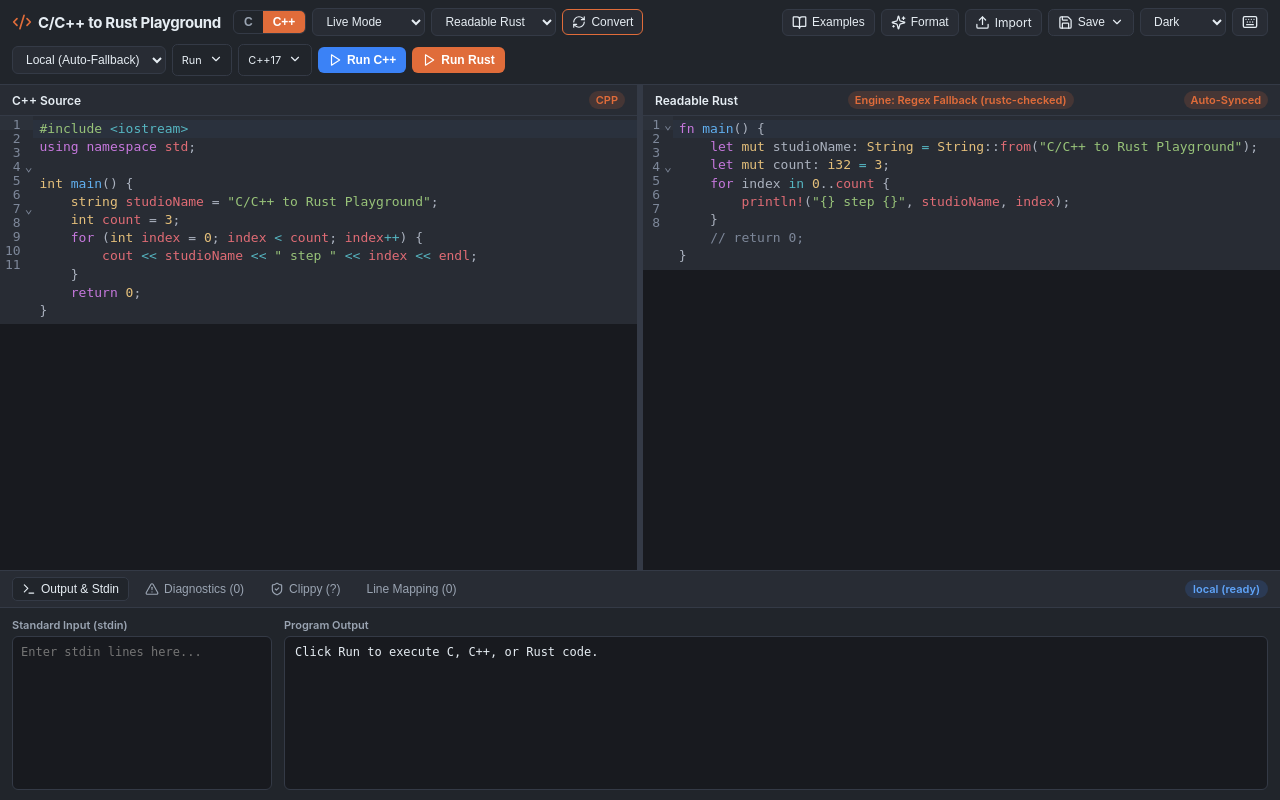
Test: App component › allows switching between Live Mode and Manual Mode and clicking Convert
This screenshot has width=1280, height=800.
Select "Manual Mode" in the dropdown with test id "conversion-mode-select" at (369, 22), box [312,8,425,36]
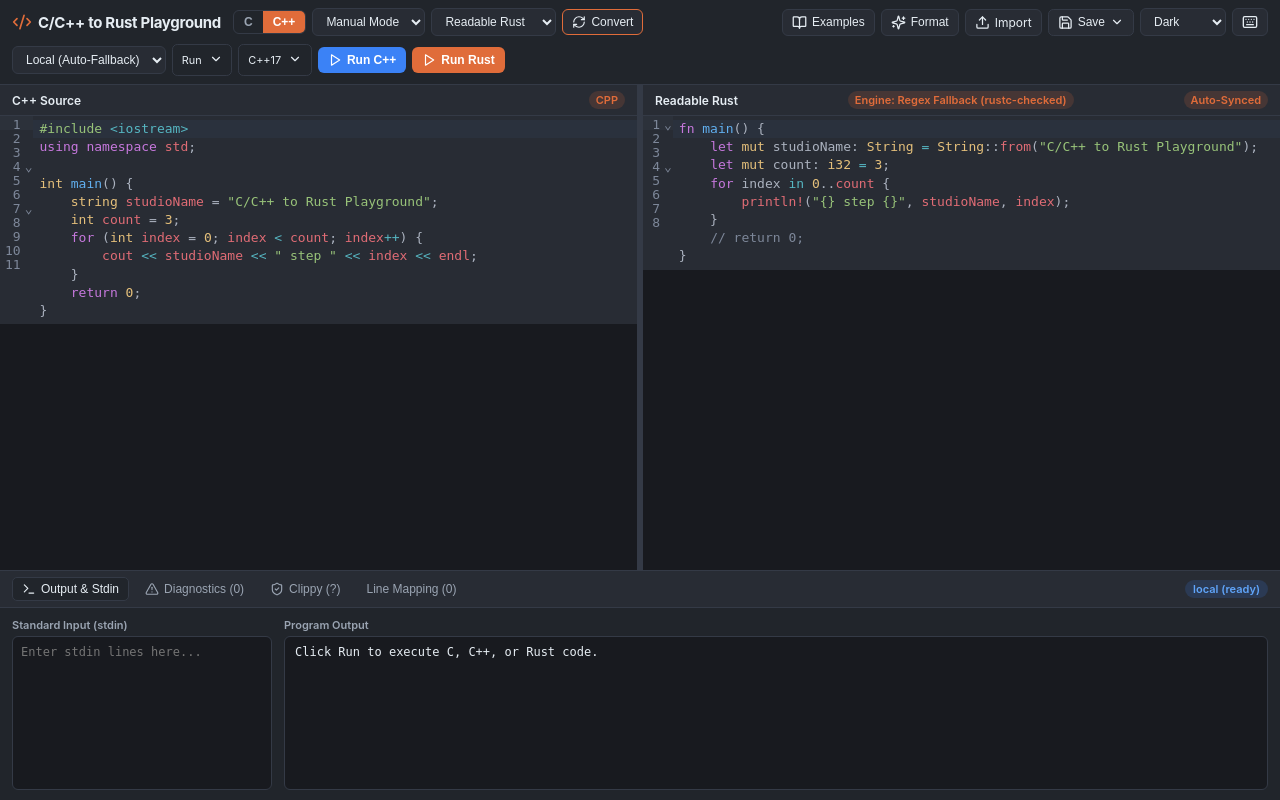
Click the button with test id "convert-now-button".
click(603, 22)  # box [562,9,643,35]
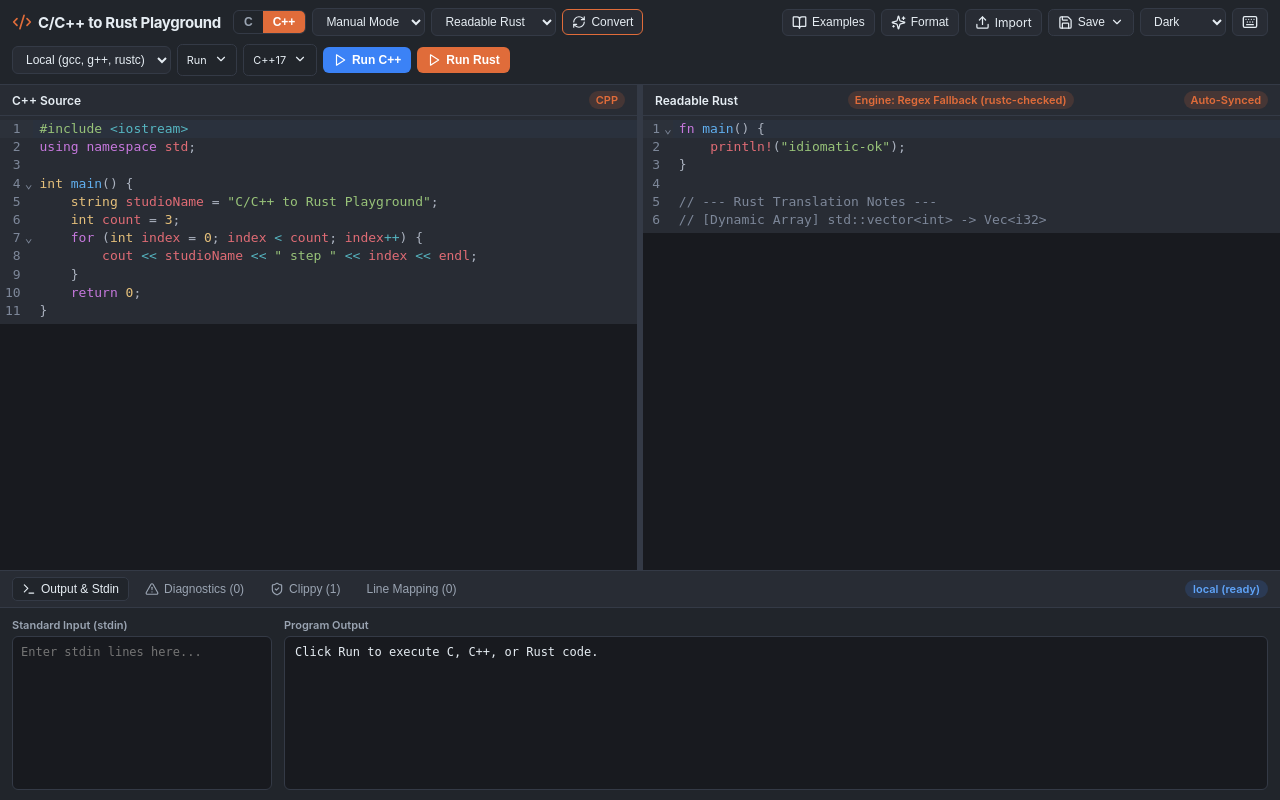
Expected: the text with test id "transpiler-engine-badge" shows "Regex Fallback", [855,93,1067,107]
Result: the element with test id "rust-editor-pane" shows "idiomatic-ok" at [781,139,890,154]
Result: the element with test id "rust-editor-pane" shows "Vec<i32>" at [679,212,1047,227]
